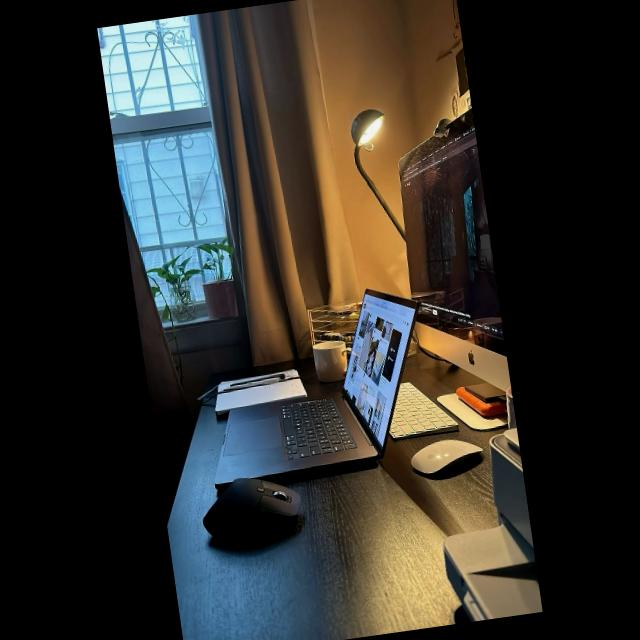laptop: (246, 292, 414, 490)
